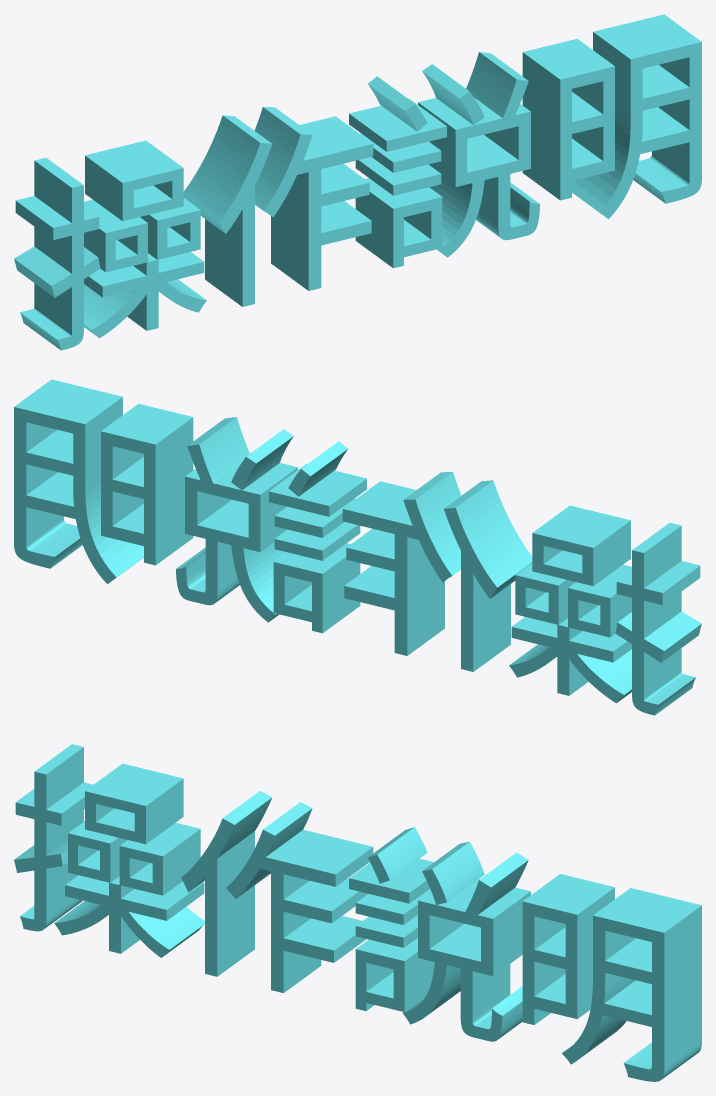
Rendered from guide.obj.
3 views of the same model, one above another, from view 1: azimuth 30°, elevation 25°; view 2: azimuth 150°, elevation 25°; view 3: azimuth 330°, elevation 25° (orthographic).
Visible parts, largest first — view 1: テキスト; view 2: テキスト; view 3: テキスト.
Boxes of the visible parts, x1=… form: テキスト: x1=14, y1=14, x2=701, y2=350; テキスト: x1=14, y1=379, x2=701, y2=715; テキスト: x1=14, y1=744, x2=701, y2=1081.
Size of the model in its own units: 3.89 by 0.931 by 0.3903.
1 material, 1 textured.
